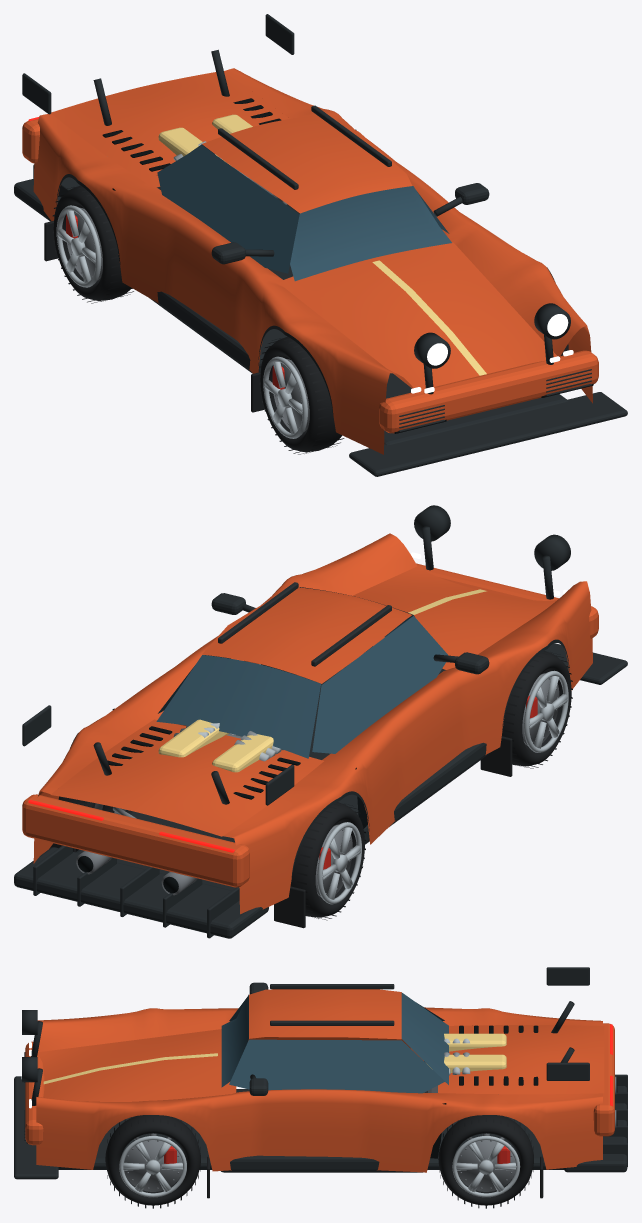
The model's file is concept-cinder.glb.
3 renders of one model, top to bottom at view 1: azimuth 30°, elevation 25°; view 2: azimuth 150°, elevation 25°; view 3: azimuth 270°, elevation 25°, orthographic. The views are drawn at different scales.
Parts seen in each view (by area): view 1: SidePanelsR | sculpted arch fenders, Hood | central sculpted bonnet, RearDeck | engine shoulders, Roof | floating canopy, SidePanelsL | sculpted arch fenders, GlassWindshield, GlassSideR, SplitterFront, BumperFront | upper bridge, RallyKit | roof rails driving optics mudflaps, TireAndTreadFrontR, TireAndTreadRearR (+18 smaller); view 2: SidePanelsR | sculpted arch fenders, RearDeck | engine shoulders, Roof | floating canopy, GlassRear | engine viewing canopy, BumperRear | shoulder bridge, SidePanelsL | sculpted arch fenders, GlassSideR, Hood | central sculpted bonnet, DiffuserRear | main expansion ramp, RallyKit | roof rails driving optics mudflaps, TireAndTreadRearR, TireAndTreadFrontR (+19 smaller); view 3: SidePanelsL | sculpted arch fenders, Hood | central sculpted bonnet, GlassSideL, RearDeck | engine shoulders, SidePanelsR | sculpted arch fenders, Roof | floating canopy, TireAndTreadRearL, TireAndTreadFrontL, RallyKit | roof rails driving optics mudflaps, SillL, GlassRear | engine viewing canopy, Engine | Twin turbo V6 / mechanical all wheel drive (+18 smaller).
Part boxes in pixels (x1,y1,x2,y2): SidePanelsR | sculpted arch fenders: (33,113,413,454); Hood | central sculpted bonnet: (281,242,556,393); RearDeck | engine shoulders: (51,72,289,188); Roof | floating canopy: (202,115,412,213); SidePanelsL | sculpted arch fenders: (224,68,592,403); GlassWindshield: (290,186,451,281); GlassSideR: (157,145,299,273); SplitterFront: (349,392,627,476); BumperFront | upper bridge: (379,350,598,433); RallyKit | roof rails driving optics mudflaps: (44,105,570,412); TireAndTreadFrontR: (259,336,344,454); TireAndTreadRearR: (52,185,133,303); SidePanelsR | sculpted arch fenders: (223,581,592,914); RearDeck | engine shoulders: (50,719,323,836); Roof | floating canopy: (202,587,411,683); GlassRear | engine viewing canopy: (156,655,320,758); BumperRear | shoulder bridge: (22,794,249,887); SidePanelsL | sculpted arch fenders: (33,533,417,863); GlassSideR: (312,616,448,753); Hood | central sculpted bonnet: (352,566,556,669); DiffuserRear | main expansion ramp: (14,847,268,938); RallyKit | roof rails driving optics mudflaps: (49,505,570,928); TireAndTreadRearR: (290,802,366,920); TireAndTreadFrontR: (502,651,572,768); SidePanelsL | sculpted arch fenders: (36,1089,602,1172); Hood | central sculpted bonnet: (35,1029,236,1108); GlassSideL: (229,1039,444,1093); RearDeck | engine shoulders: (438,1025,604,1094); SidePanelsR | sculpted arch fenders: (37,1007,602,1060); Roof | floating canopy: (249,989,401,1039); TireAndTreadRearL: (438,1115,533,1208); TireAndTreadFrontL: (105,1115,200,1208); RallyKit | roof rails driving optics mudflaps: (21,984,543,1198); SillL: (221,1155,422,1172); GlassRear | engine viewing canopy: (401,992,448,1084); Engine | Twin turbo V6 / mechanical all wheel drive: (424,1033,506,1092).
Size of the model in its own units: 2.02 by 1.38 by 4.94.
